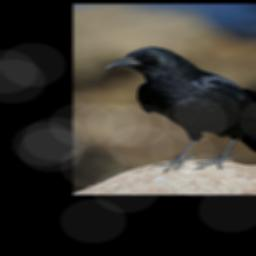Crow: (102, 46, 256, 174)
